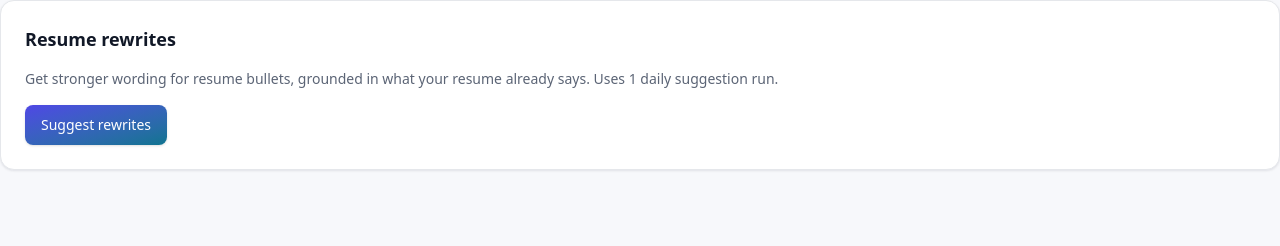
it: Suggestions › shows the server message when the request fails
This screenshot has width=1280, height=246.
Click the button "Suggest rewrites" at (96, 125), box [25,105,167,145]
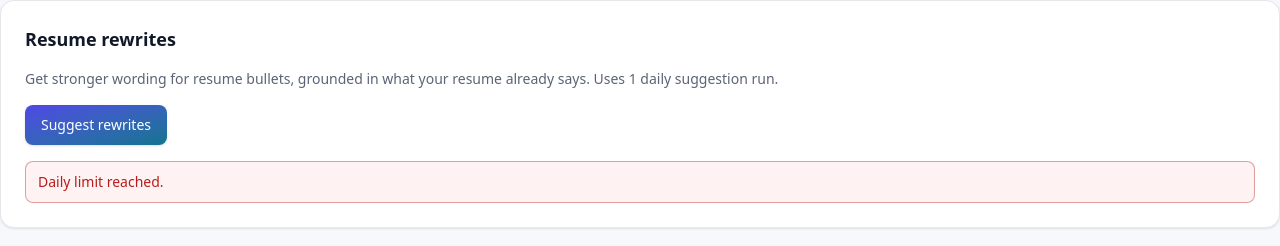
expect the message reads "Daily limit reached.": met, box [38,172,164,191]
